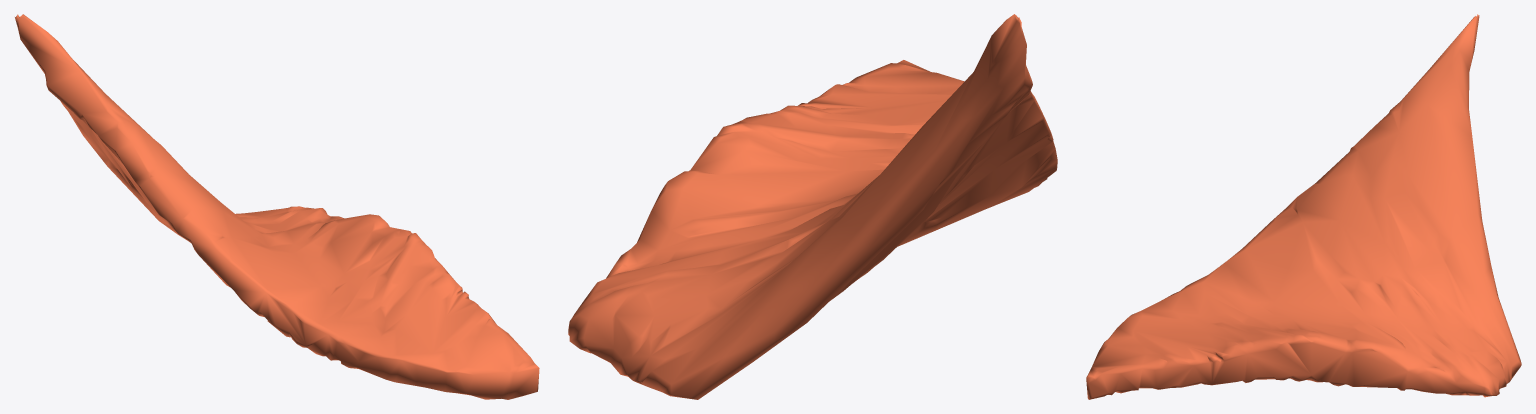
Rendered from Mylohyoid_muscle.r_Generated_Mesh_From_X3D.339.glb.
The picture shows the model from 3 angles, left to right: view 1: azimuth 30°, elevation 25°; view 2: azimuth 150°, elevation 25°; view 3: azimuth 270°, elevation 25°; orthographic projection. The views are drawn at different scales.
Visible parts, largest first — view 1: Mylohyoid_muscle.r_Generated_Mesh_From_X3D.339; view 2: Mylohyoid_muscle.r_Generated_Mesh_From_X3D.339; view 3: Mylohyoid_muscle.r_Generated_Mesh_From_X3D.339.
Boxes of the visible parts, x1,y1,x2,y2 form: Mylohyoid_muscle.r_Generated_Mesh_From_X3D.339: [15, 14, 539, 399]; Mylohyoid_muscle.r_Generated_Mesh_From_X3D.339: [568, 14, 1057, 399]; Mylohyoid_muscle.r_Generated_Mesh_From_X3D.339: [1086, 14, 1521, 399].
Size of the model in its own units: 0.027 by 0.0251 by 0.0378.
